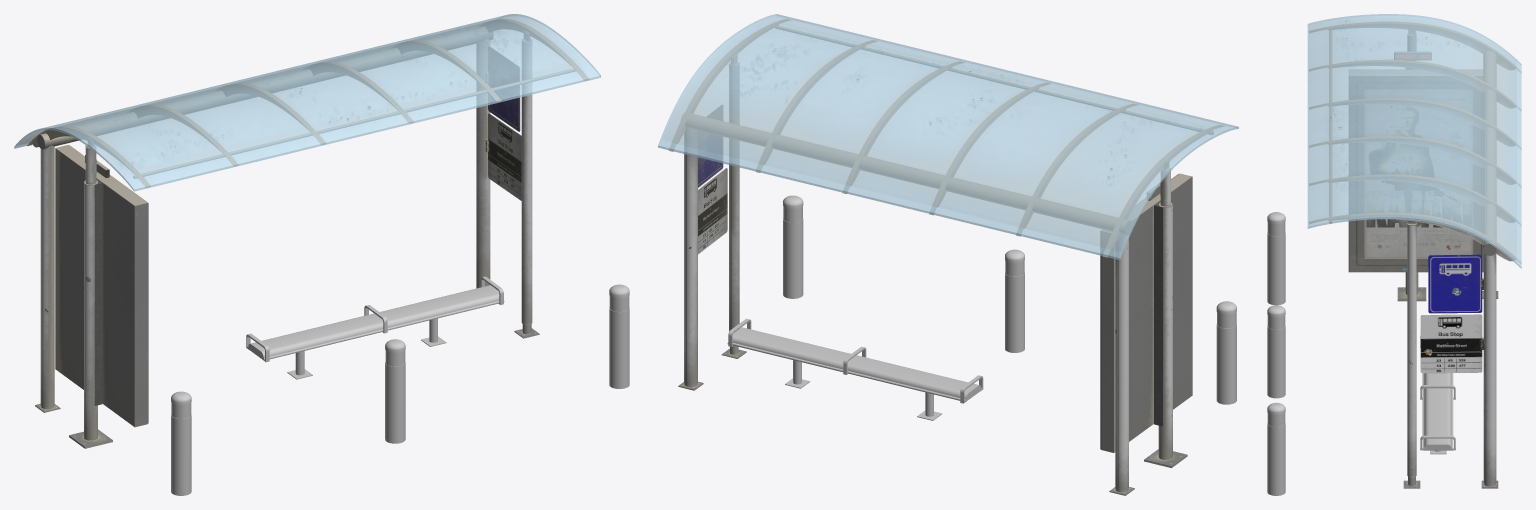
3 renders of one model, left to right at view 1: azimuth 30°, elevation 25°; view 2: azimuth 150°, elevation 25°; view 3: azimuth 270°, elevation 25°, orthographic. The views are drawn at different scales.
Visible parts, largest first — view 1: Bustop_roof_1, Bustop_posters_3, Busstop_legs_0, Bustop_Bench_2, Bustop_roof.001_4; view 2: Bustop_roof_1, Bustop_posters_3, Busstop_legs_0, Bustop_Bench_2, Bustop_roof.001_4; view 3: Bustop_roof_1, Bustop_posters_3, Bustop_roof.001_4, Bustop_Bench_2, Busstop_legs_0.
Part boxes in pixels (bbox=[...]): Bustop_roof_1: bbox=[14, 14, 600, 191]; Bustop_posters_3: bbox=[55, 46, 521, 427]; Busstop_legs_0: bbox=[35, 31, 539, 448]; Bustop_Bench_2: bbox=[171, 276, 629, 495]; Bustop_roof.001_4: bbox=[27, 19, 588, 187]; Bustop_roof_1: bbox=[658, 14, 1238, 260]; Bustop_posters_3: bbox=[698, 105, 1192, 452]; Busstop_legs_0: bbox=[678, 54, 1187, 495]; Bustop_Bench_2: bbox=[727, 195, 1236, 420]; Bustop_roof.001_4: bbox=[669, 19, 1223, 257]; Bustop_roof_1: bbox=[1307, 14, 1521, 268]; Bustop_posters_3: bbox=[1348, 52, 1484, 373]; Bustop_roof.001_4: bbox=[1309, 22, 1521, 263]; Bustop_Bench_2: bbox=[1267, 212, 1455, 495]; Busstop_legs_0: bbox=[1397, 27, 1498, 488].
Size of the model in its own units: 4.84 by 2.99 by 2.51.
